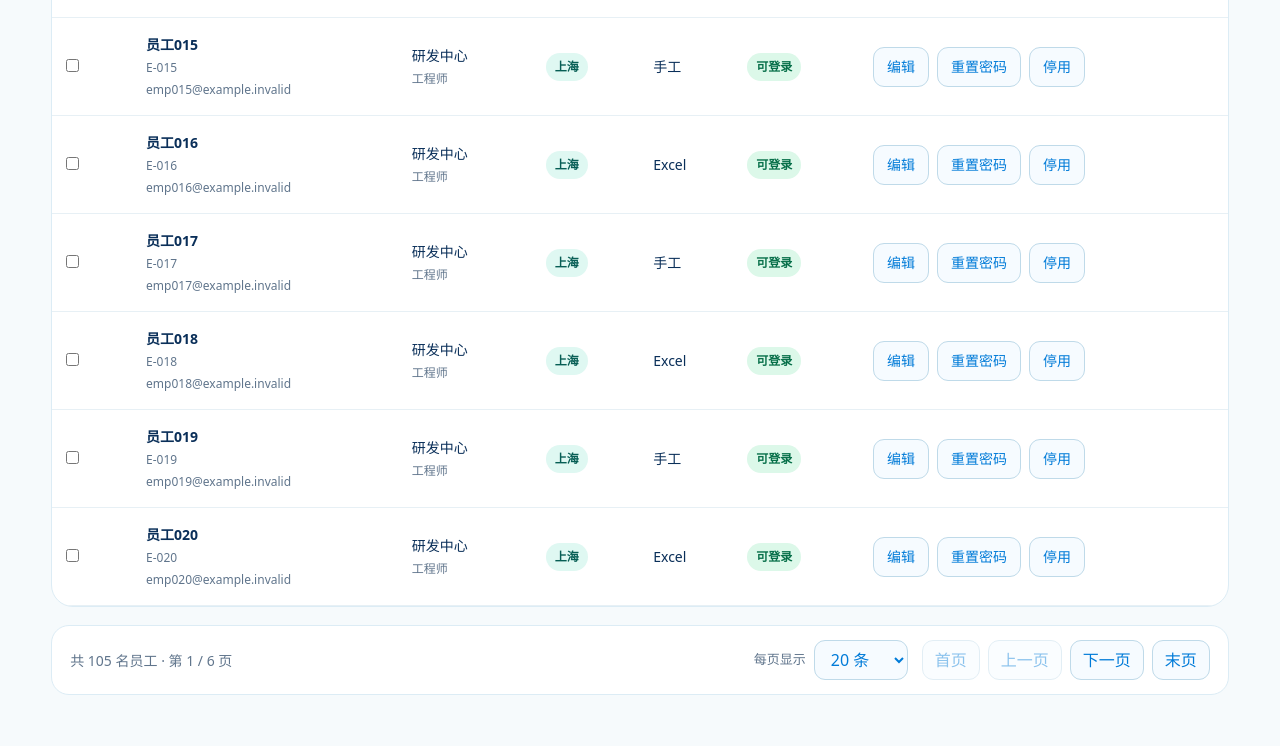
Test: employee admin pagination UI › requests page and pageSize and renders first/previous/next/last controls with totals
(page scrolled)
Check: the text "共 105 名员工 · 第 1 / 6 页" is shown, box [70,650,232,671]
Check: the button "首页" is disabled, box [922,640,980,680]
Step 1. Click the button "末页" → [1181, 660], box [1152,640,1210,680]
(page scrolled)
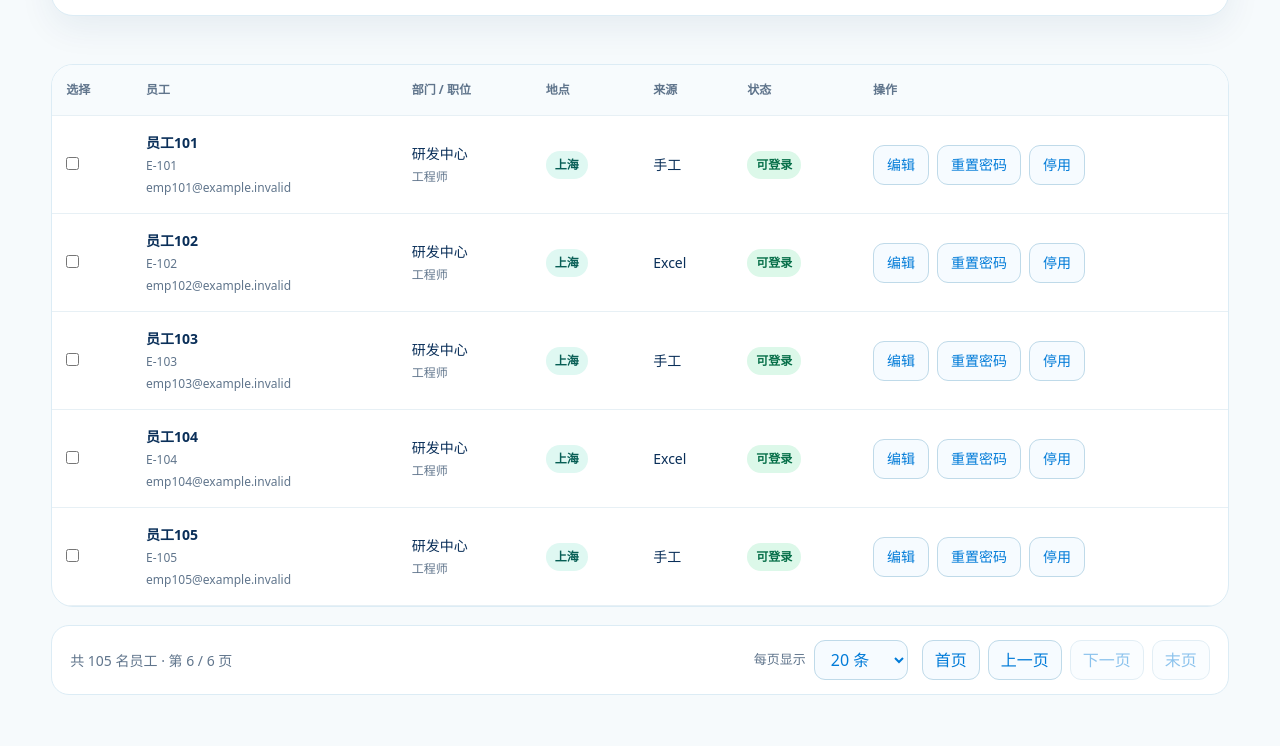
Check: the text "共 105 名员工 · 第 6 / 6 页" is shown, box [70,650,232,671]
Check: the text "员工105" is shown, box [146,525,198,544]
